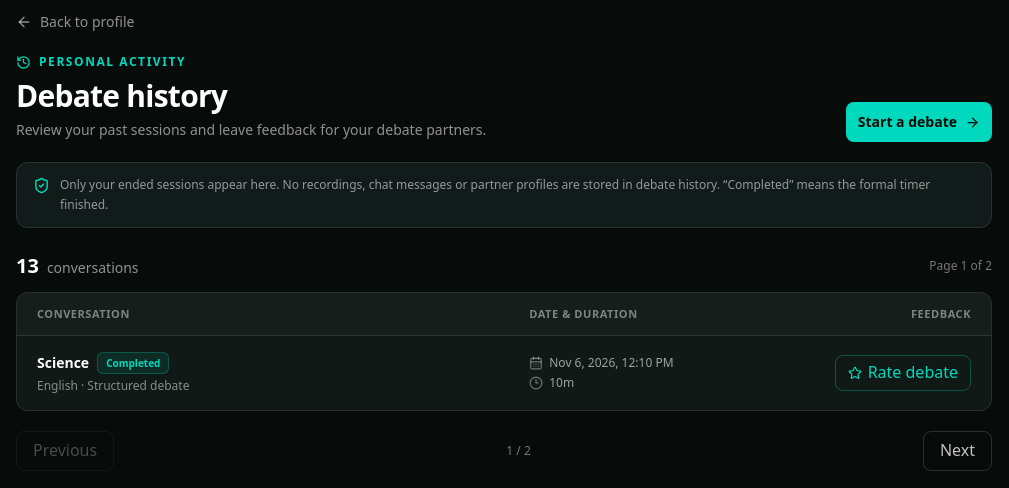
renders completed vs ended sessions and navigates between pages
Expected: the heading "Science" is shown, [37,353,89,373]
Expected: the text "Completed" is shown, [97,352,169,374]
Step 1. Click the button "Next" → click(957, 451), box [923,431,992,471]
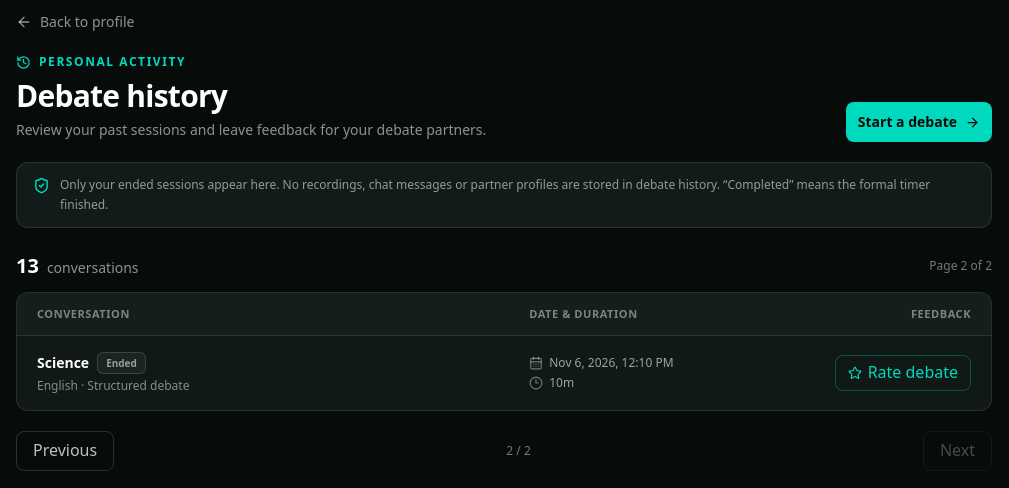
Expected: the text "partner profile" is shown, [60,176,930,213]
Expected: the text "Ended" is shown, [97,352,146,374]
